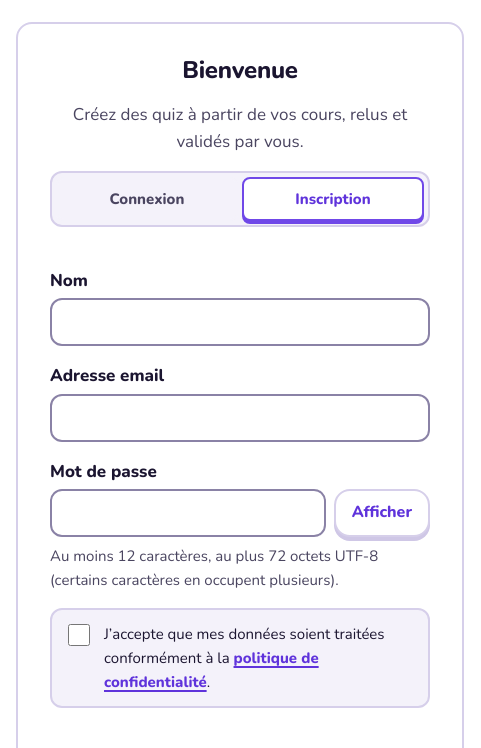
PageInscription › erreur sur le nom : seul le champ Nom est marqué, l’aide reste reliée au mot de passe
The width and height of the screenshot is (481, 748).
Type "A" into the field labelled "Nom" at (240, 322), box [50,298,430,346]
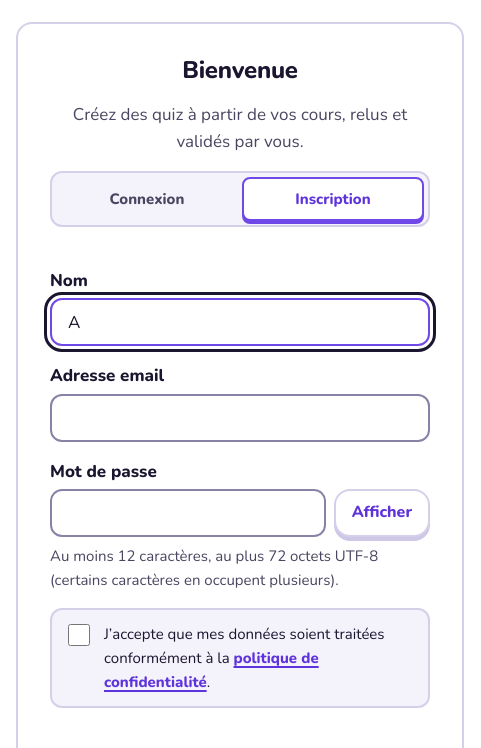
Type "camille@exemple.fr" into the field labelled "Adresse email" at (240, 418), box [50,394,430,442]
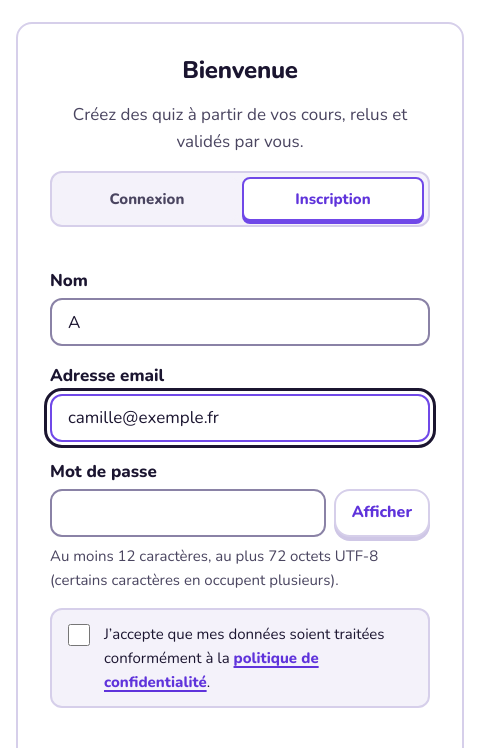
Type "MotDePasse-123" into the password field labelled "Mot de passe" at (188, 513), box [50,489,326,537]
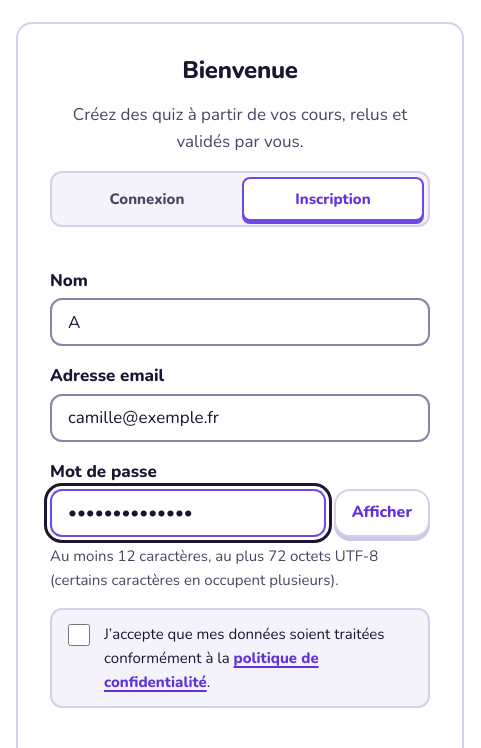
Click the checkbox at (79, 635), box [68,624,90,646]
(page scrolled)
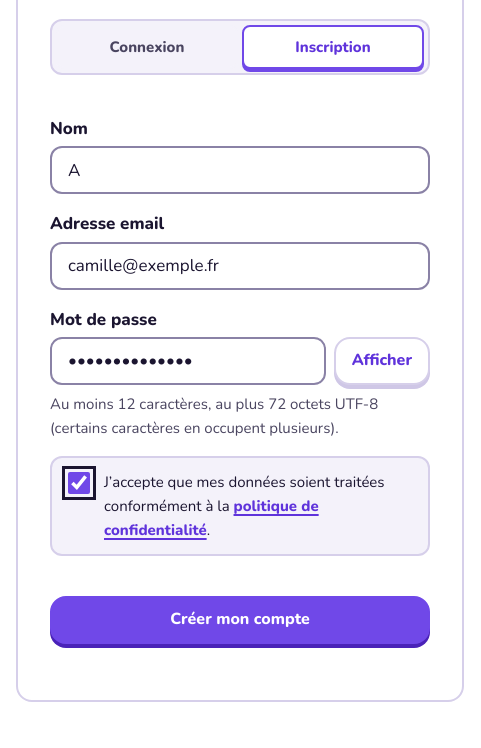
Click the button "Créer mon compte" at (240, 620), box [50,596,430,644]
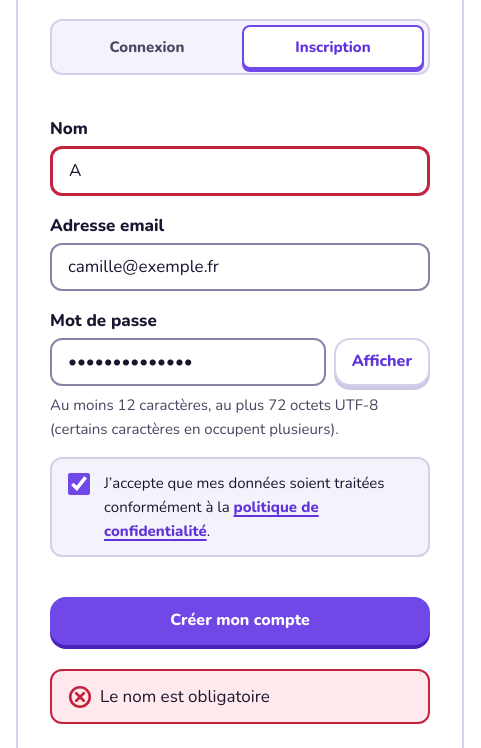
Check: the message "Le nom est obligatoire" is shown, box [50,669,430,724]
